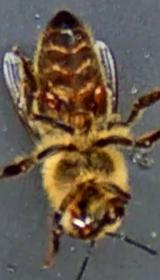varroa_mite: (76, 74, 119, 108), (28, 84, 64, 118)
